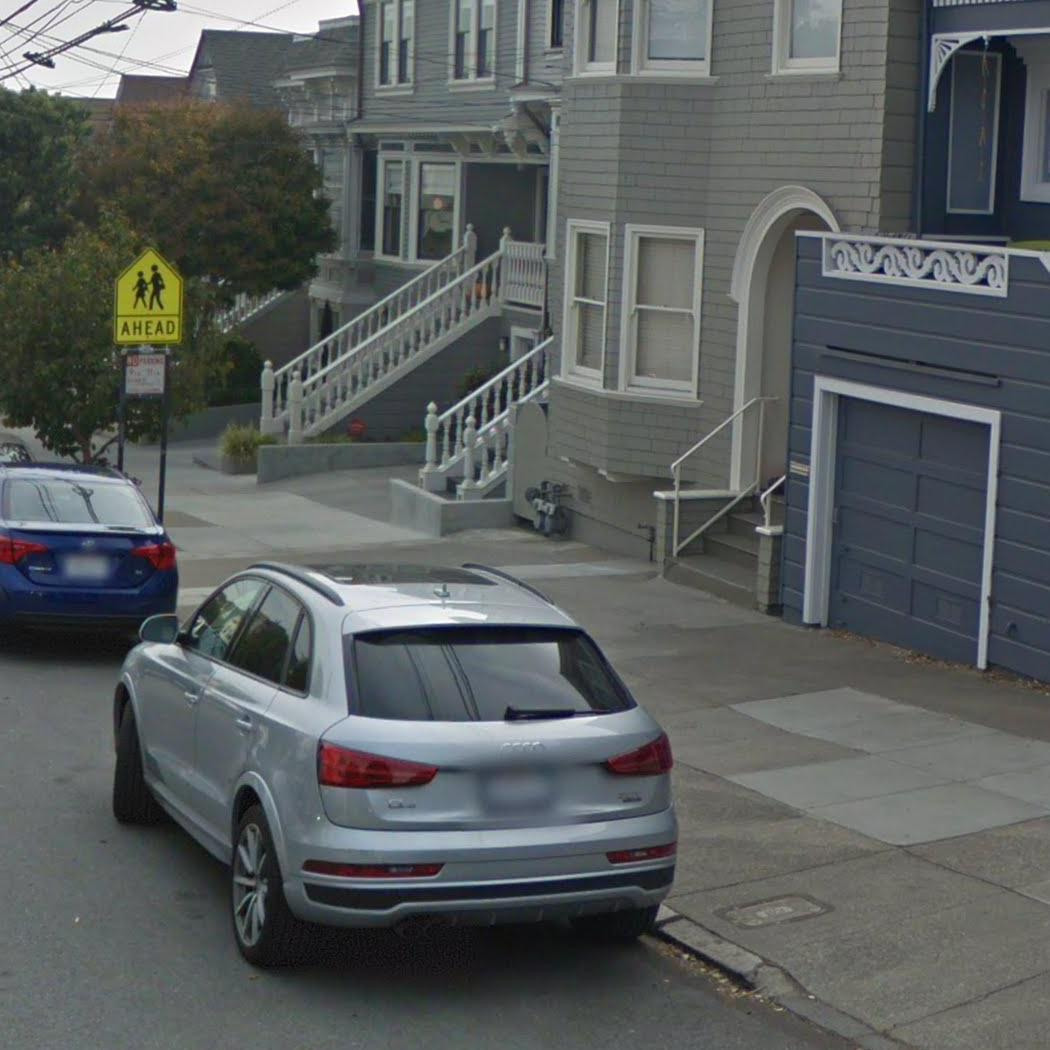No Parking: (123, 352, 167, 398)
